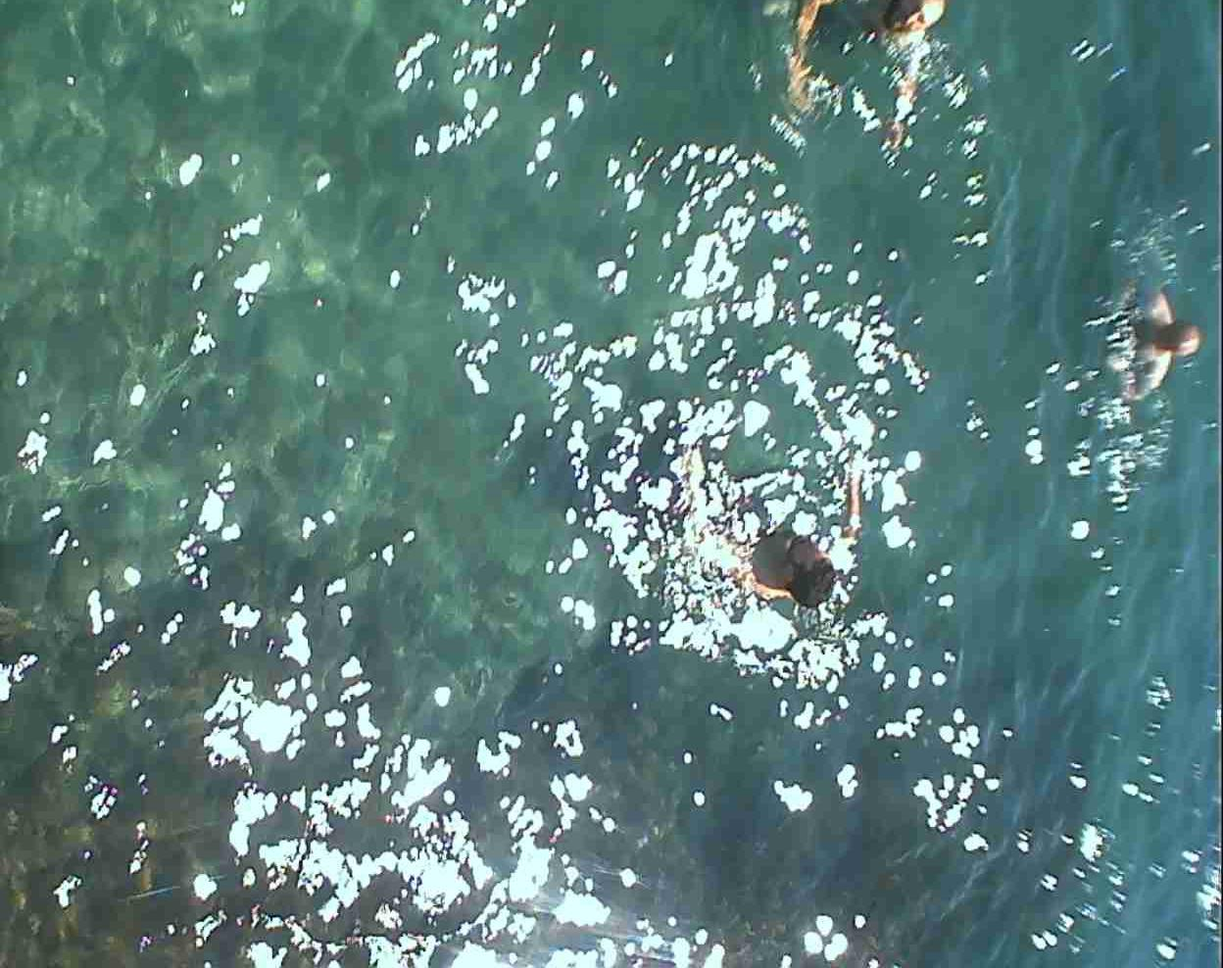swimmer: (692, 439, 862, 625), (776, 0, 936, 171), (1104, 268, 1198, 412)
